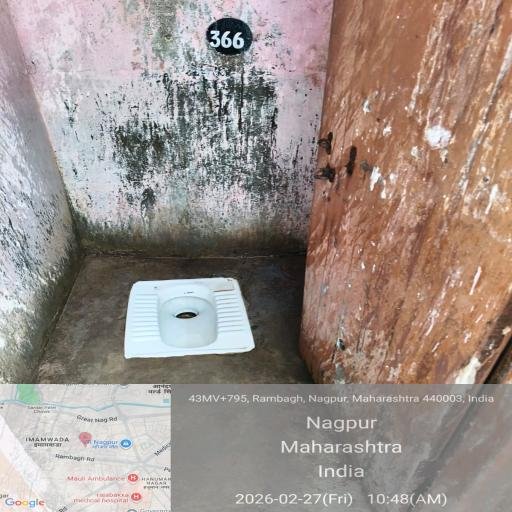clean_indian: (108, 256, 273, 369)
dirty_floor: (315, 19, 512, 482), (28, 24, 474, 221), (16, 246, 322, 498)
